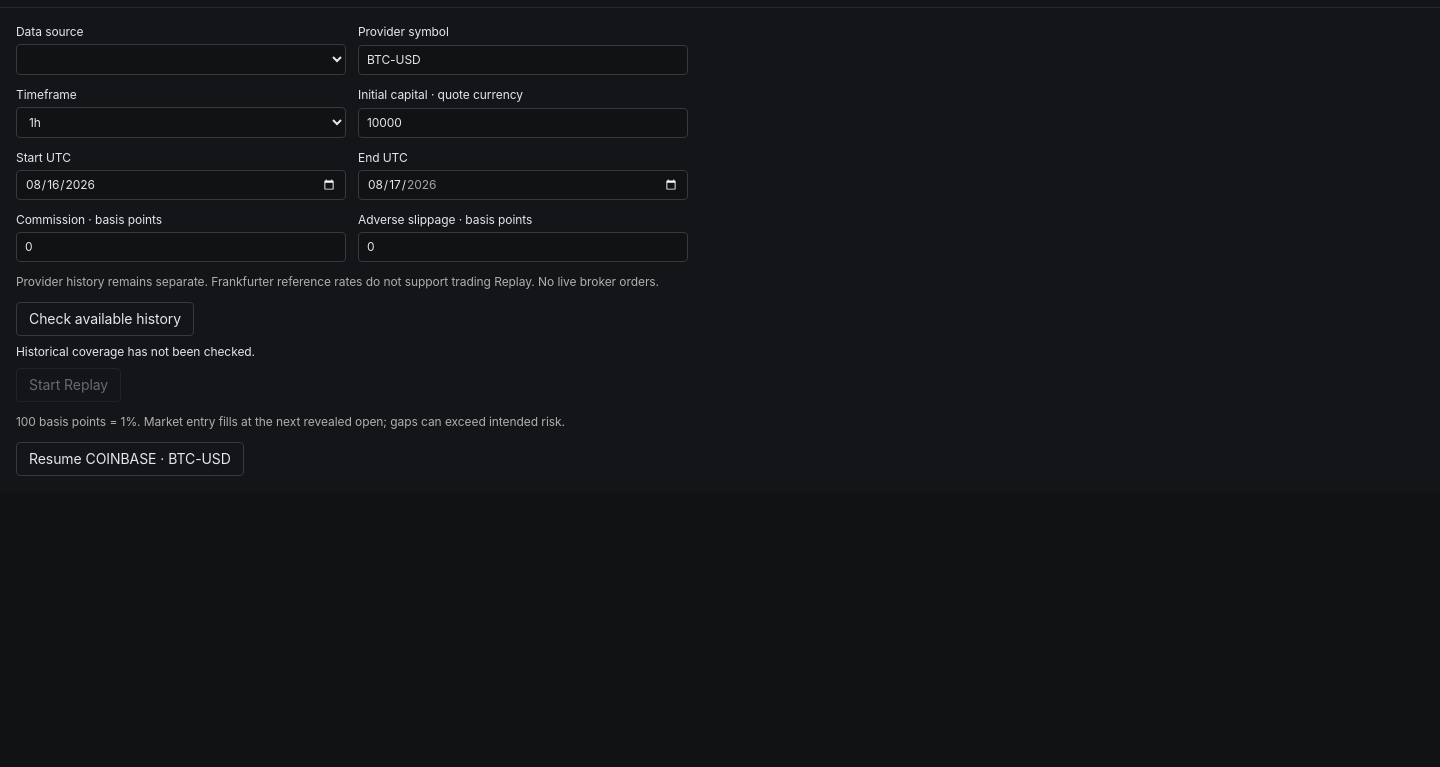
Test: explains a next-open balance rejection instead of silently returning to a draft
Click the button "Resume COINBASE · BTC-USD" at [130, 459], box [16,442,244,476]
(page scrolled)
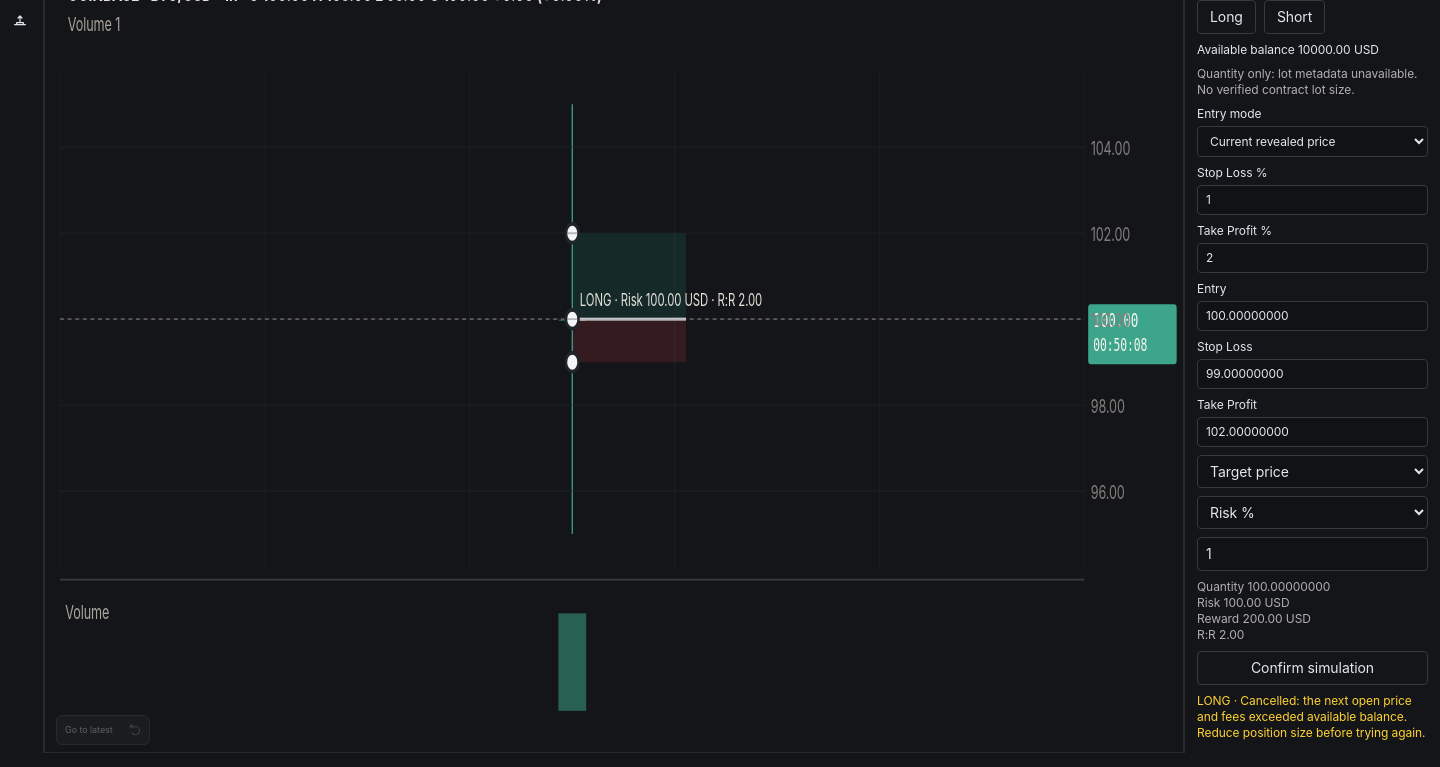
Expected: the text "next open price and fees exceeded available balance" is shown, [1197,693,1425,740]
